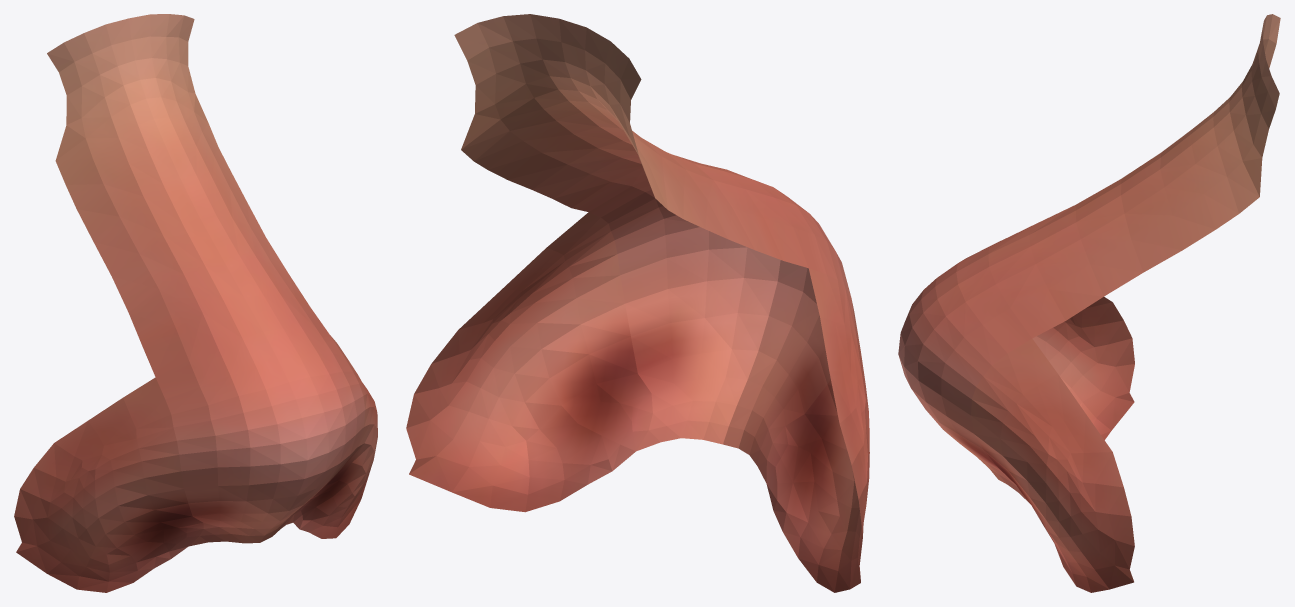
File: euro-nose-bridge-short-1.obj
3 views of the same model, side by side, from view 1: azimuth 30°, elevation 25°; view 2: azimuth 150°, elevation 25°; view 3: azimuth 270°, elevation 25° (orthographic). The views are drawn at different scales.
Parts seen in each view (by area): view 1: euro-nose-bridge-_euro-nose-bridge-.025; view 2: euro-nose-bridge-_euro-nose-bridge-.025; view 3: euro-nose-bridge-_euro-nose-bridge-.025.
Boxes of the visible parts, box(x1,y1,x2,y2) form: euro-nose-bridge-_euro-nose-bridge-.025: box(14, 14, 377, 592); euro-nose-bridge-_euro-nose-bridge-.025: box(406, 14, 869, 592); euro-nose-bridge-_euro-nose-bridge-.025: box(898, 14, 1280, 592).
Bounding box in the file's own units: 0.4136 × 0.5312 × 0.3704.
1 material, 1 textured.
